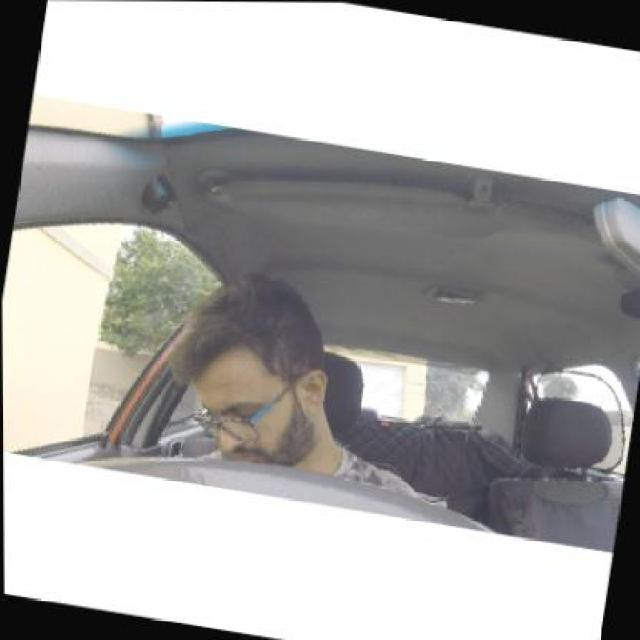drowsy: (158, 249, 341, 519)
